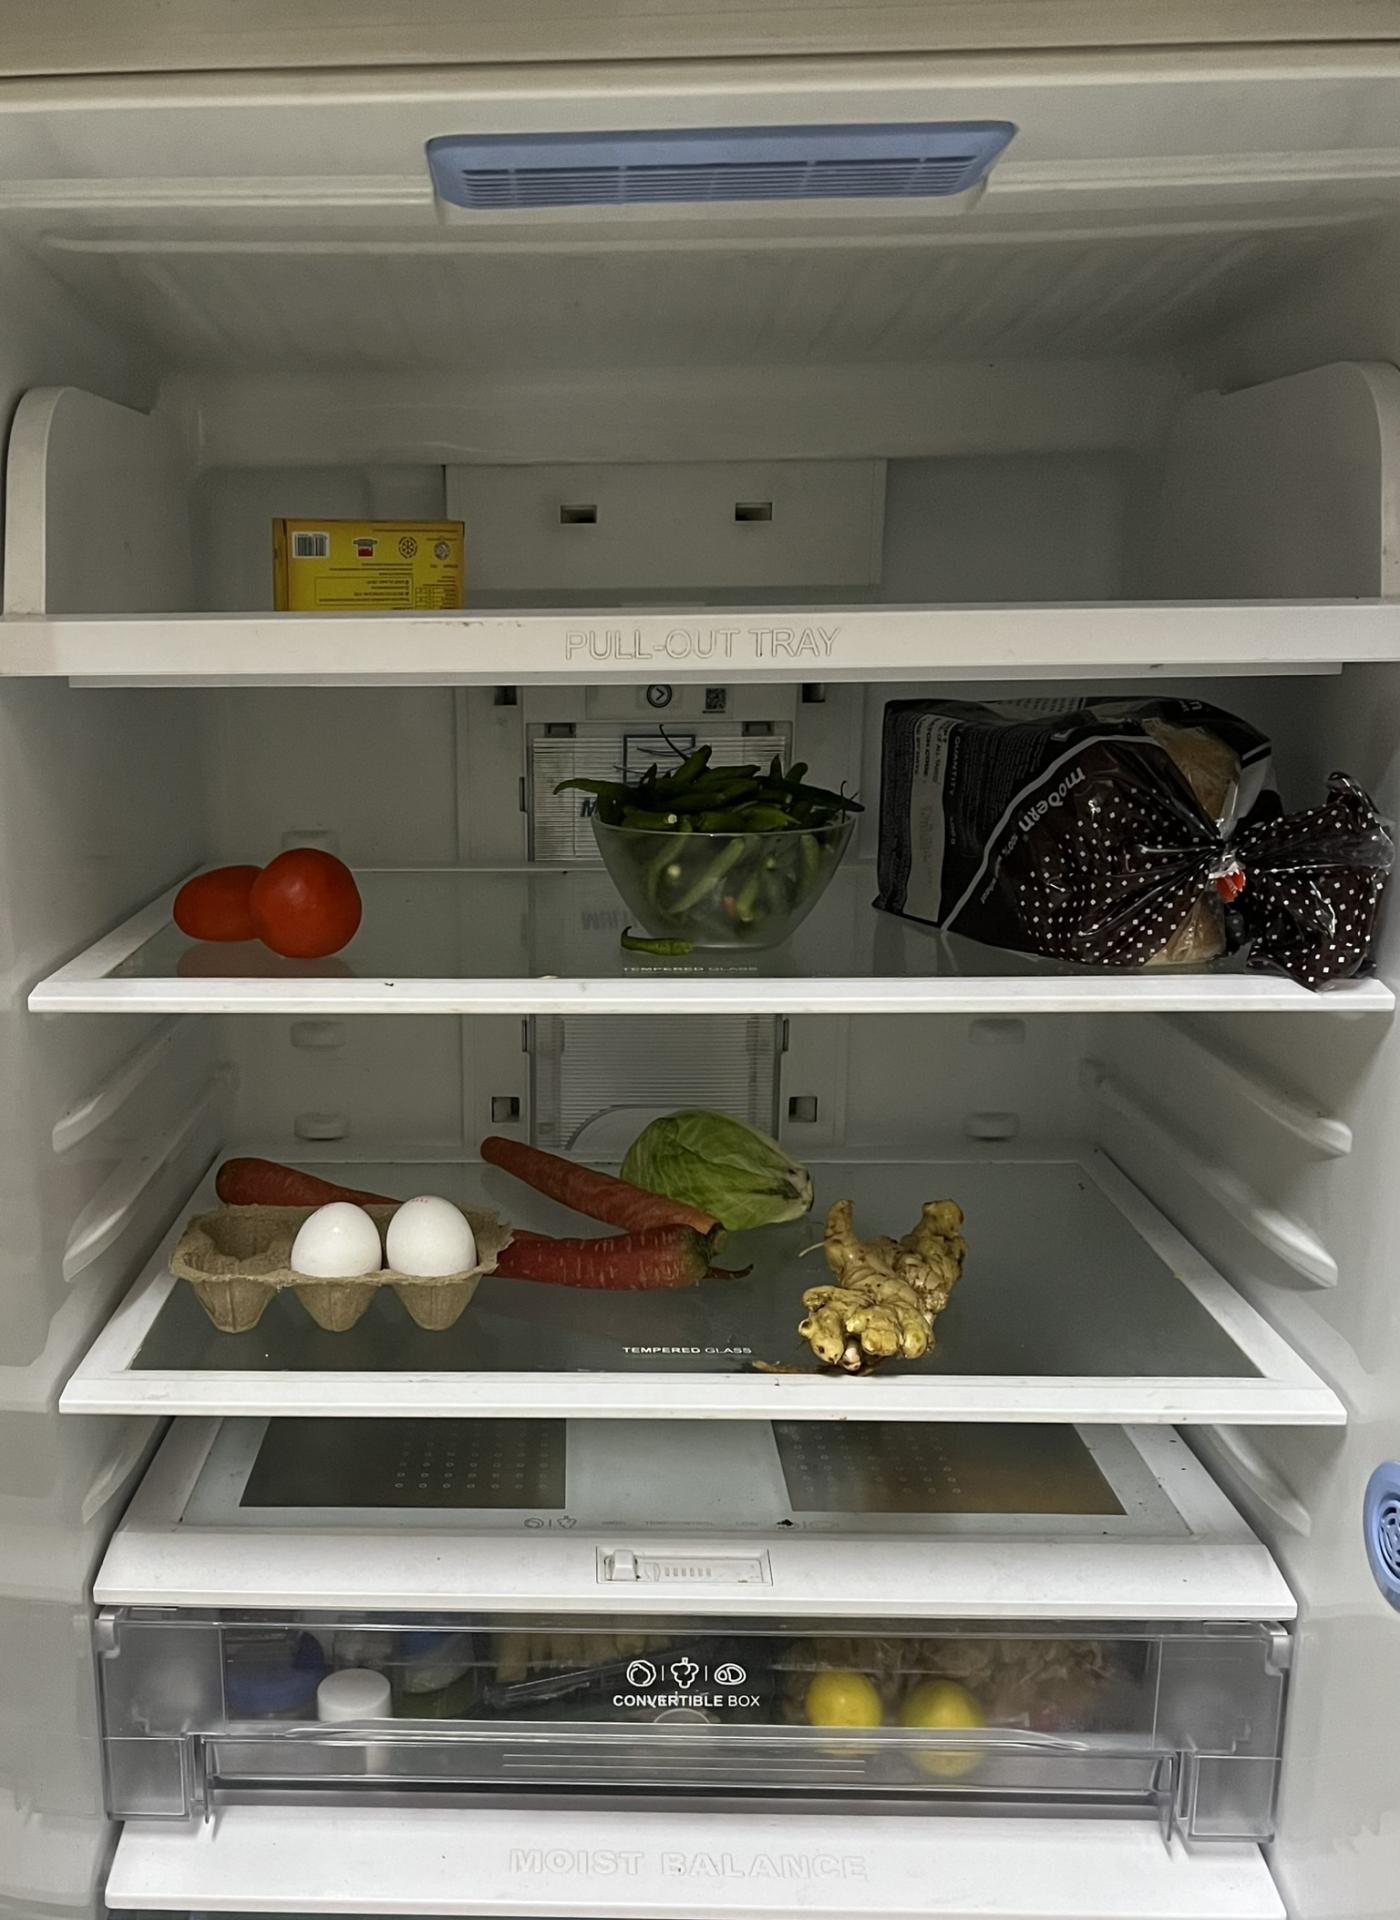bread: (875, 698, 1390, 982)
butter: (273, 513, 474, 608)
carrots: (473, 1130, 734, 1258)
chillies: (589, 756, 857, 933)
cucumber: (625, 1102, 820, 1213)
egg: (231, 1193, 489, 1337)
ginger: (793, 1200, 971, 1362)
tomato: (176, 844, 364, 959)
